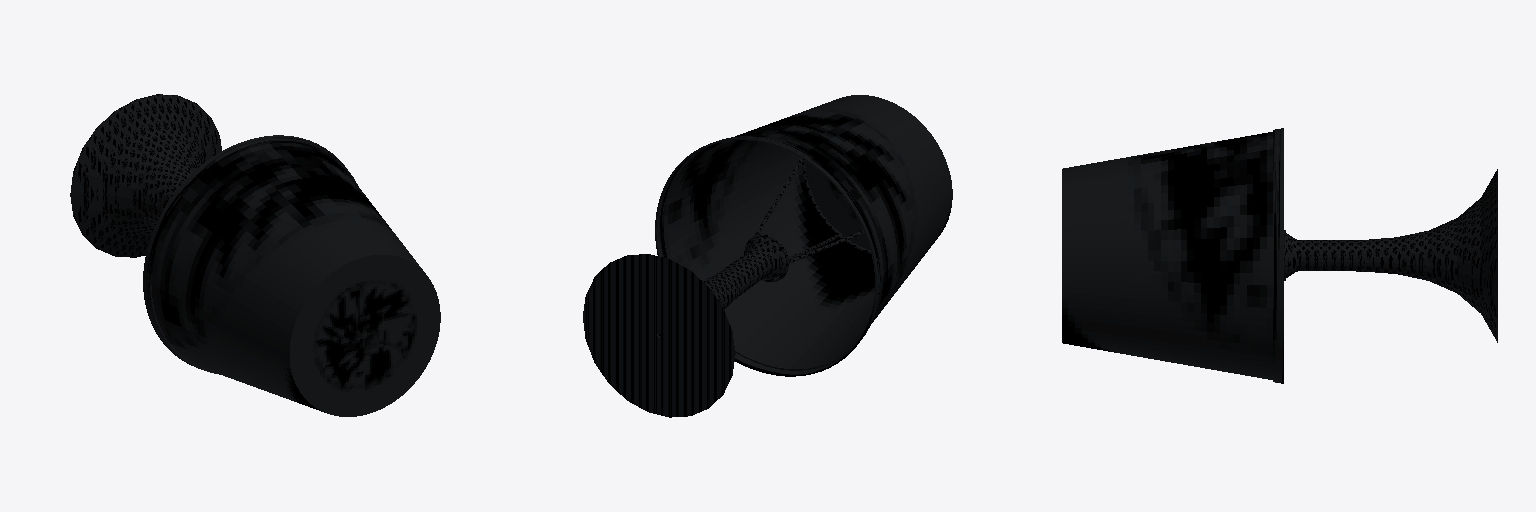
3 renders of one model, left to right at view 1: azimuth 30°, elevation 25°; view 2: azimuth 150°, elevation 25°; view 3: azimuth 270°, elevation 25°, orthographic.
Size of the model in its own units: 0.2936 by 0.2936 by 0.5002.
1 materials, 1 textured.